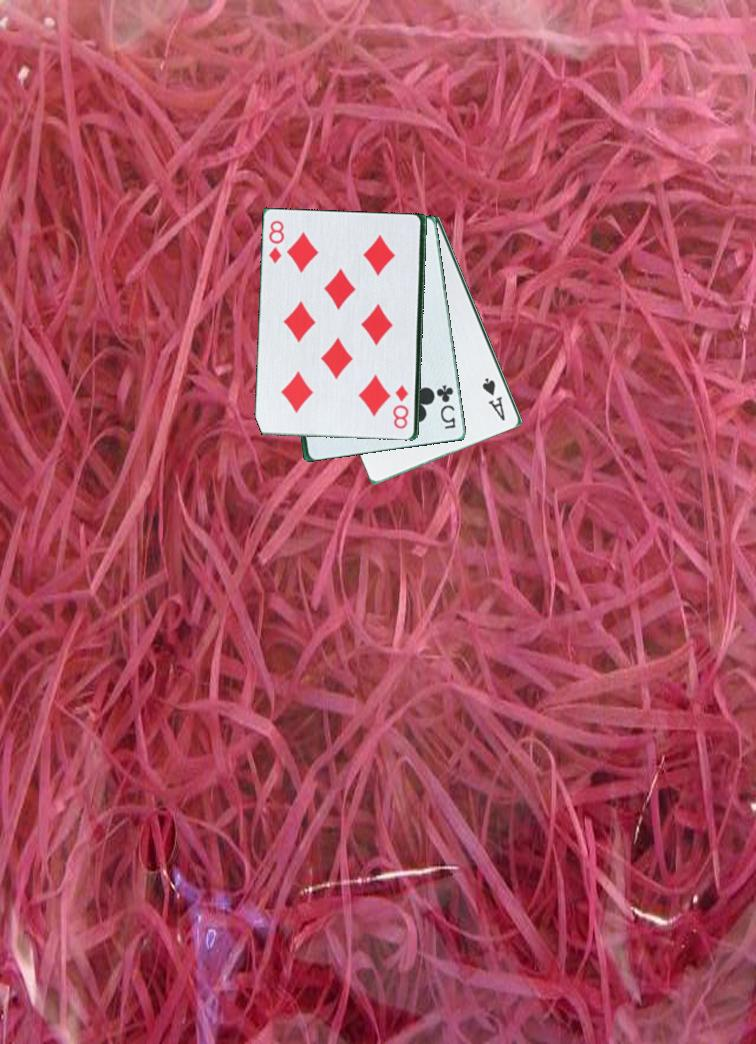5c: (433, 382, 459, 432)
8d: (265, 217, 288, 266), (392, 382, 412, 436)
as: (479, 374, 509, 424)
